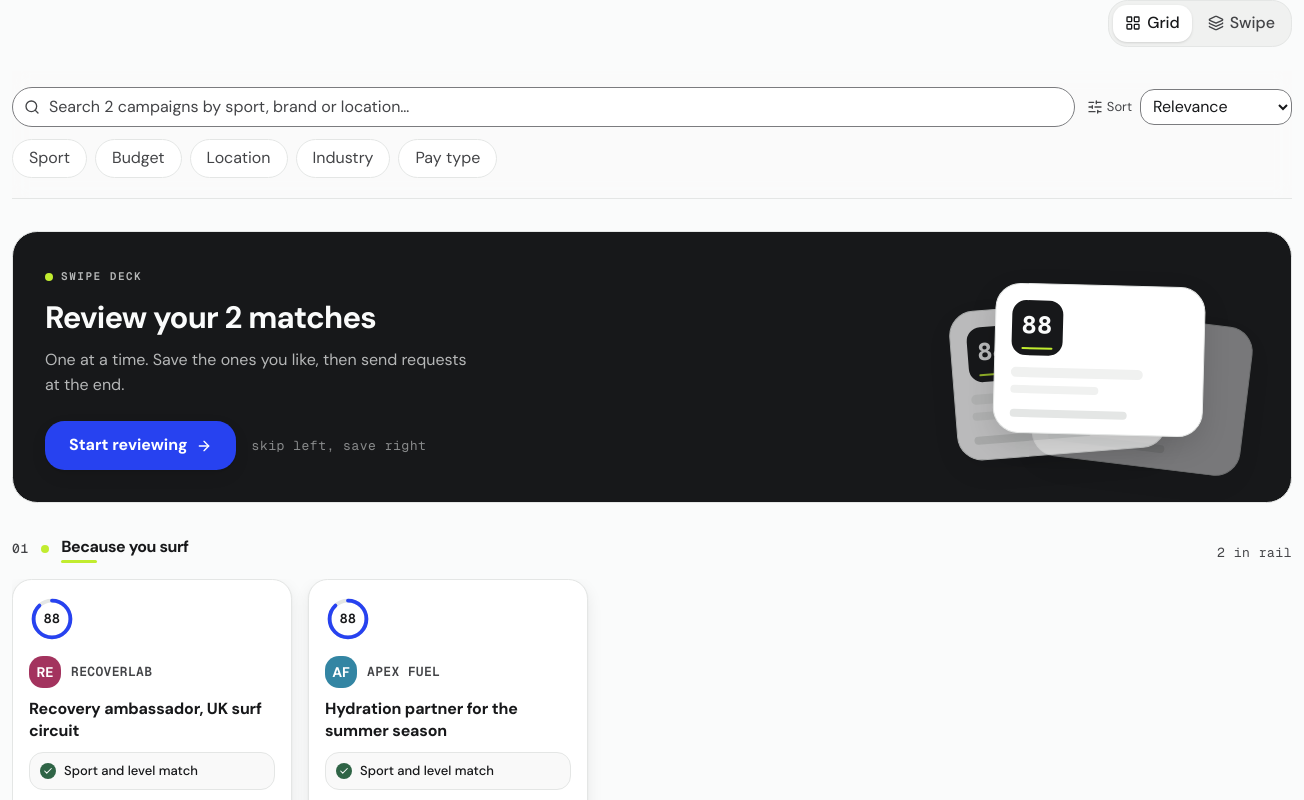
Test: DiscoverFeed › shows a "no campaigns found" empty state with Clear all when a search matches nothing
Type "zzzzzznomatch" into the search field named "search campaigns" at (543, 107), box [12,87,1075,127]
(page scrolled)
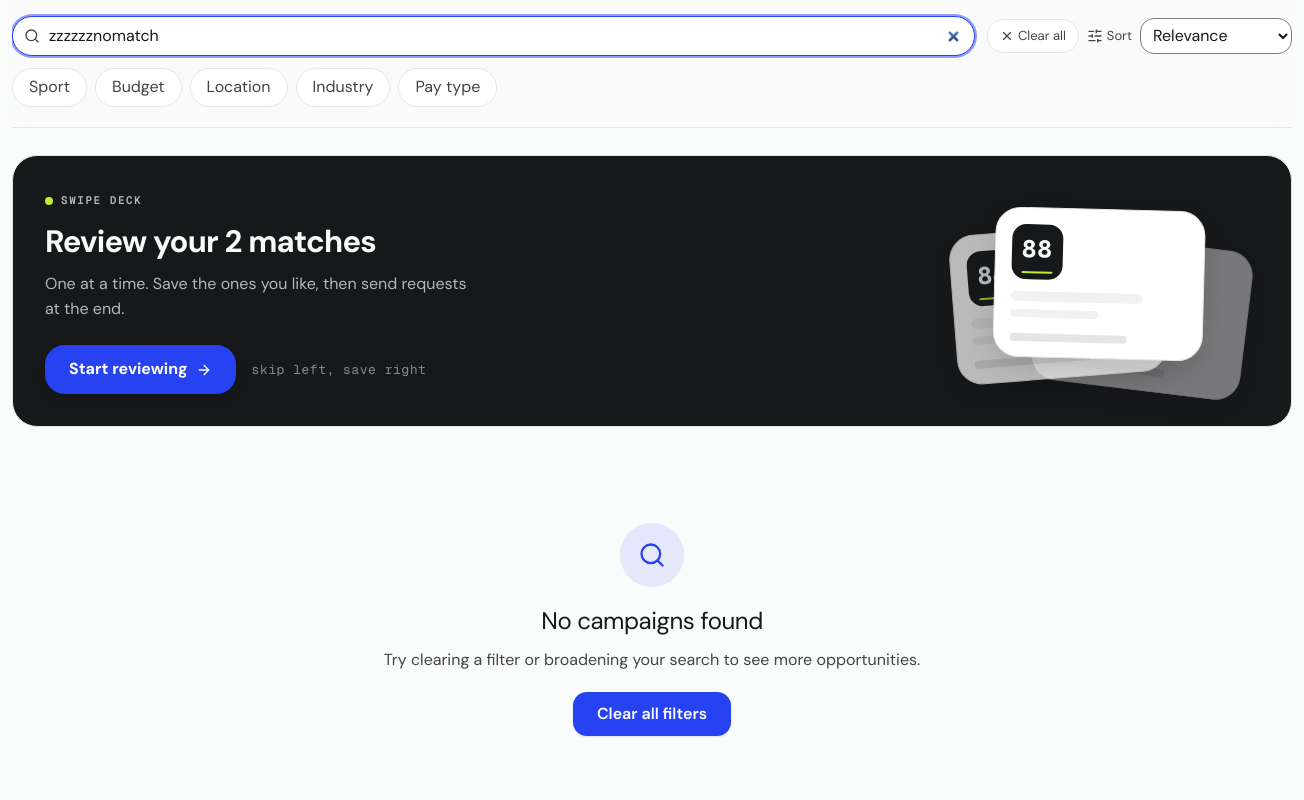
Now the heading "No campaigns found" is shown, box [541,607,763,636]
Now the button "Clear all filters" is shown
Click the button "Clear all filters" at (652, 714), box [573,692,731,736]
(page scrolled)
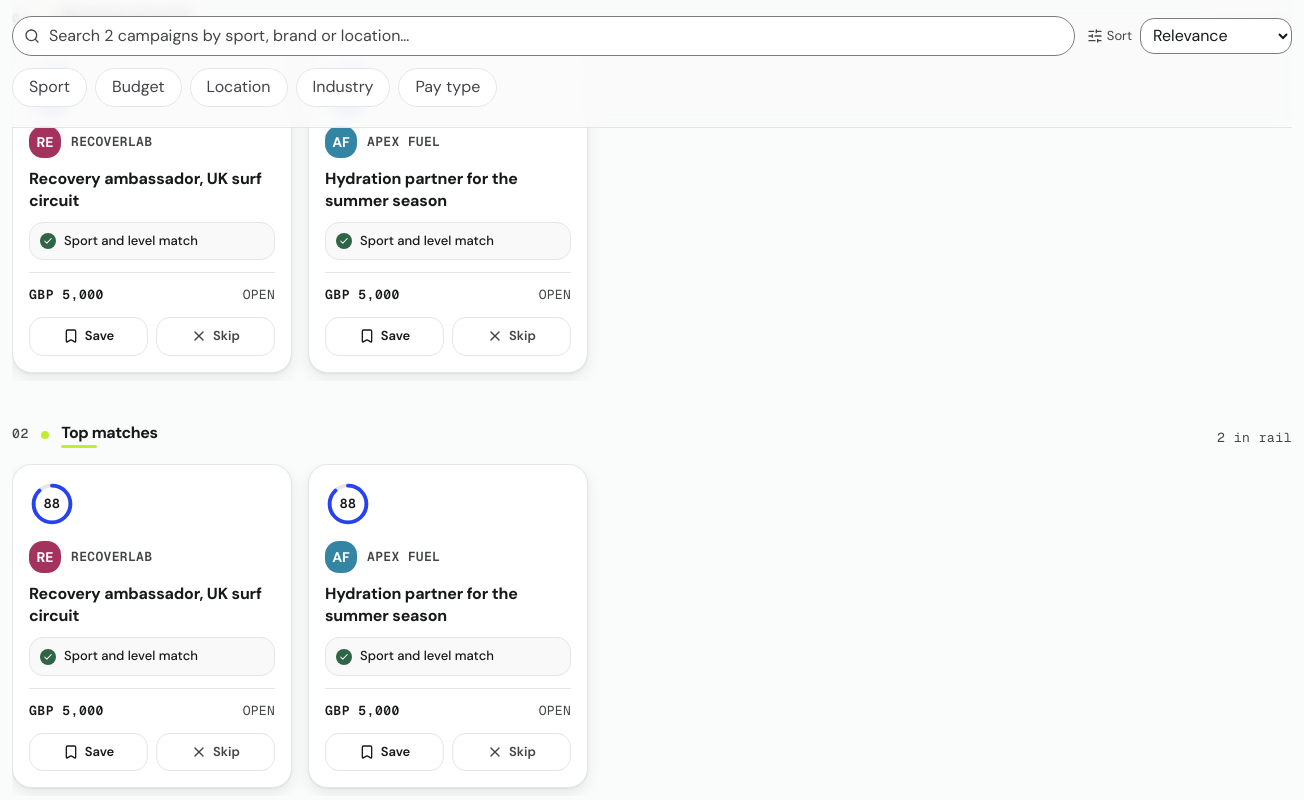
Now the element with test id "discover-rails" is shown
